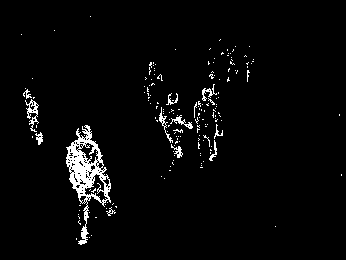person: (65, 124, 117, 245), (193, 87, 224, 169), (158, 92, 193, 160), (22, 88, 43, 146)
